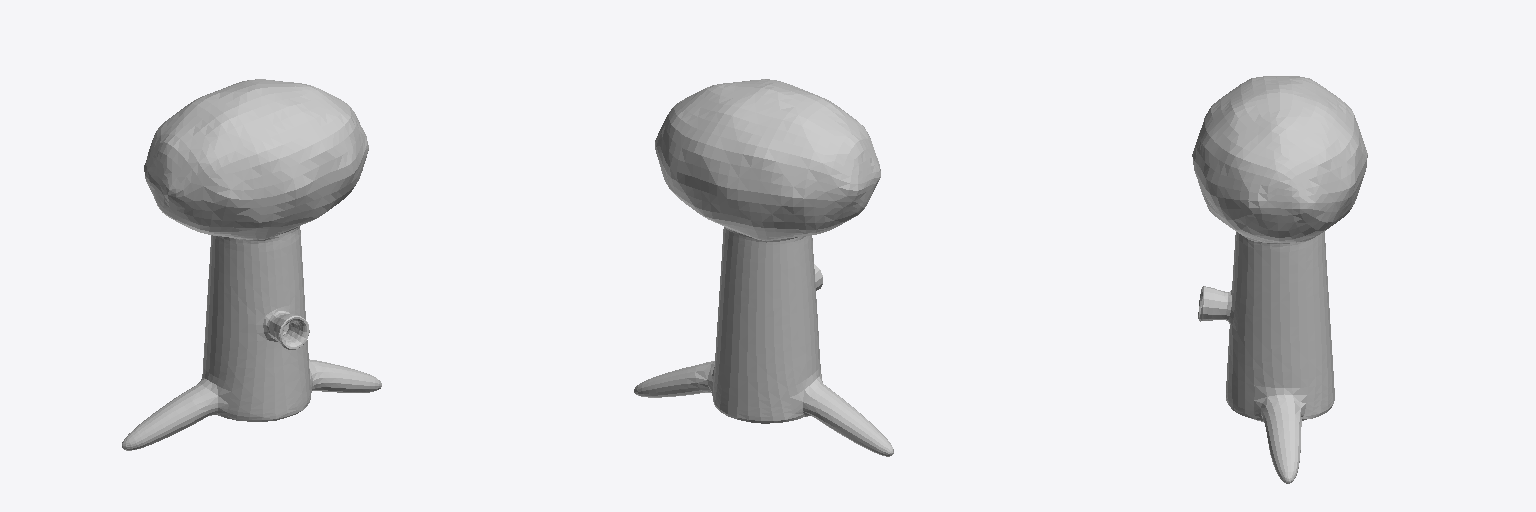
Rendered from jablonka.obj.
3 views of the same model, side by side, from view 1: azimuth 30°, elevation 25°; view 2: azimuth 150°, elevation 25°; view 3: azimuth 270°, elevation 25° (orthographic).
Parts seen in each view (by area): view 1: Sphere; view 2: Sphere; view 3: Sphere.
Boxes of the visible parts, box(x1,y1,x2,y2) form: Sphere: box(122, 79, 381, 450); Sphere: box(634, 79, 893, 456); Sphere: box(1192, 76, 1367, 483).
Bounding box in the file's own units: 3.62 × 4.45 × 2.12.